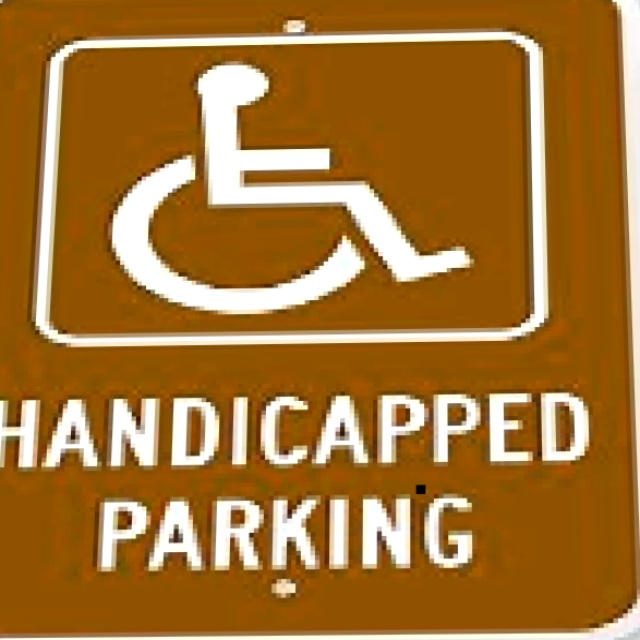ISA: (104, 57, 469, 315)
